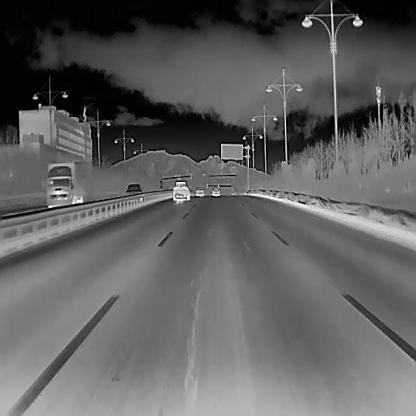car: (46, 162, 80, 207), (172, 180, 190, 201), (123, 181, 142, 195), (194, 186, 204, 197), (210, 186, 220, 196)
